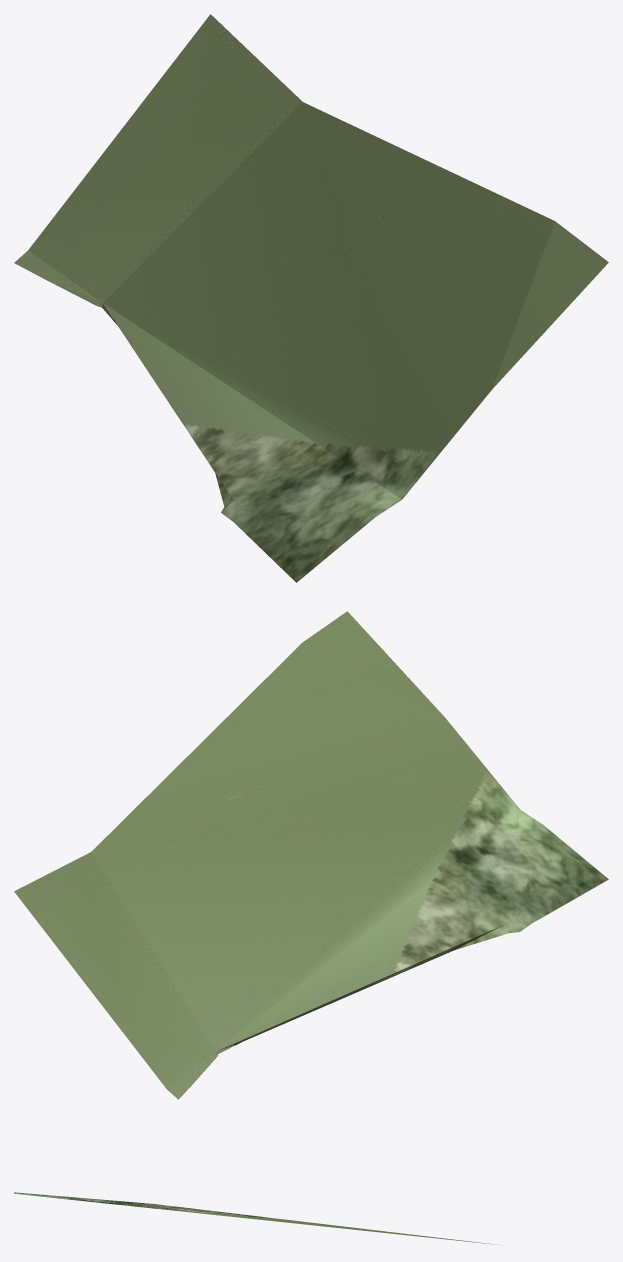
3 views of the same model, one above another, from view 1: azimuth 30°, elevation 25°; view 2: azimuth 150°, elevation 25°; view 3: azimuth 270°, elevation 25° (orthographic). The views are drawn at different scales.
Size of the model in its own units: 2.67 by 2.01 by 5.9.
2 materials, 2 textured.
